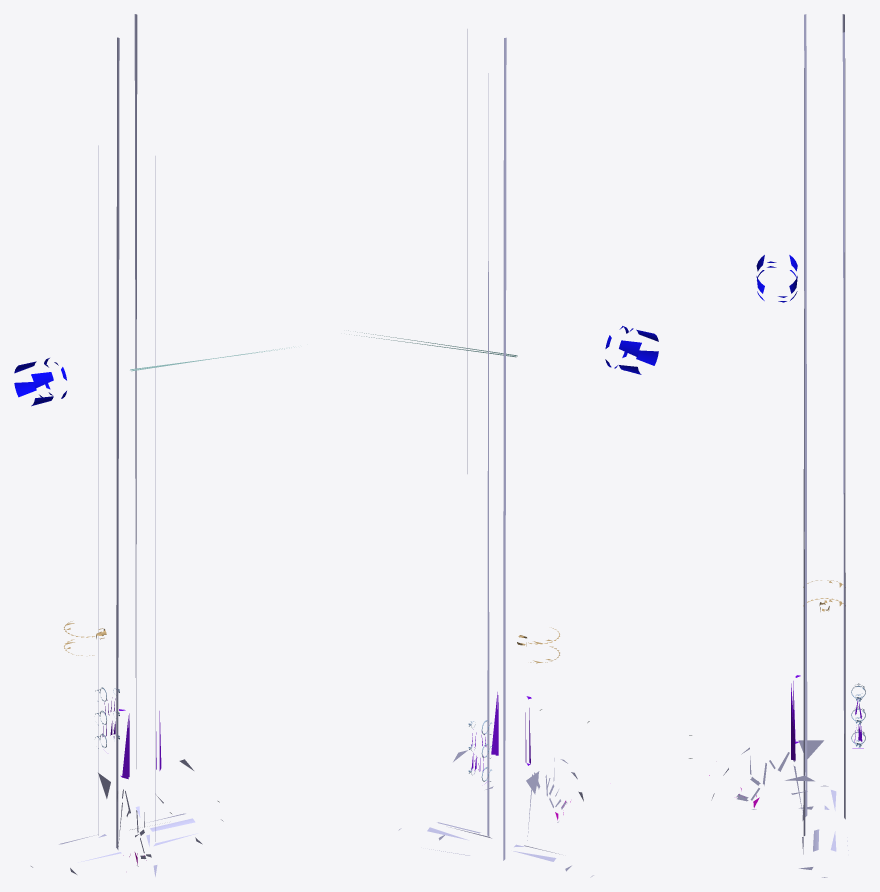
The picture shows the model from 3 angles, left to right: view 1: azimuth 30°, elevation 25°; view 2: azimuth 150°, elevation 25°; view 3: azimuth 270°, elevation 25°; orthographic projection. The views are drawn at different scales.
Parts seen in each view (by area): view 1: F19721000063199800000_001_59230003_beweglicher_Schwenker (×3); view 2: F19721000063199800000_001_59230003_beweglicher_Schwenker (×3); view 3: F19721000063199800000_001_59230003_beweglicher_Schwenker (×3).
Boxes of the visible parts, x1,y1,x2,y2 form: F19721000063199800000_001_59230003_beweglicher_Schwenker (×3): (14,14,223,876); F19721000063199800000_001_59230003_beweglicher_Schwenker (×3): (398,29,658,877); F19721000063199800000_001_59230003_beweglicher_Schwenker (×3): (711,14,863,877).
Size of the model in its own units: 372 by 197 by 995.
